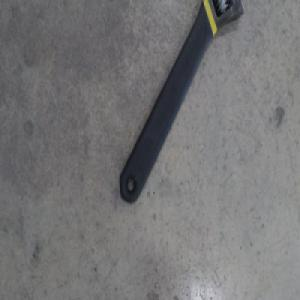AdjustableWrench: (118, 0, 237, 203)
